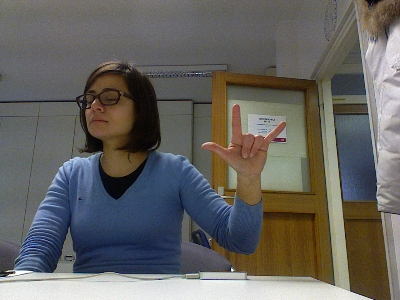我爱你: (199, 102, 287, 176)
